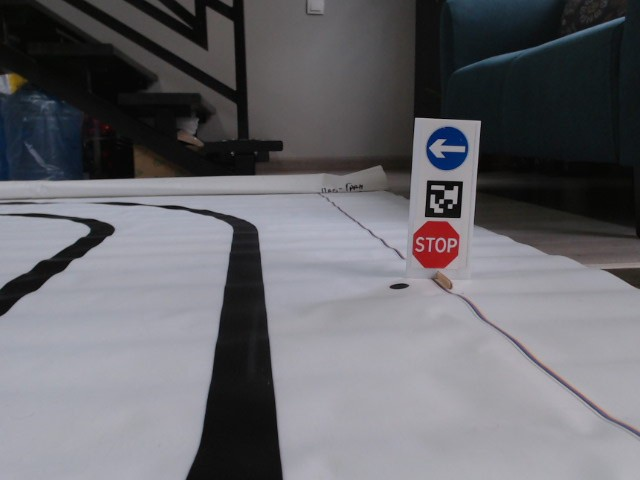Stop: (410, 219, 461, 269)
